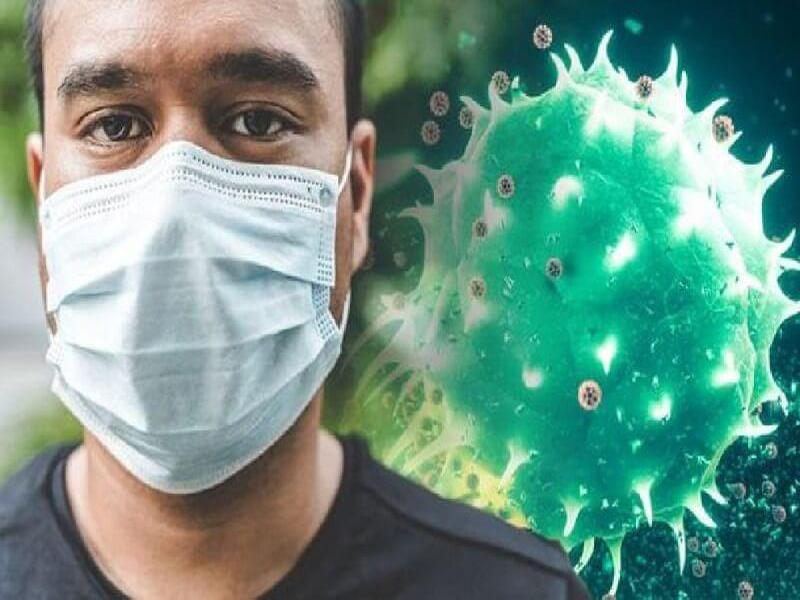with_mask: (37, 1, 356, 500)
